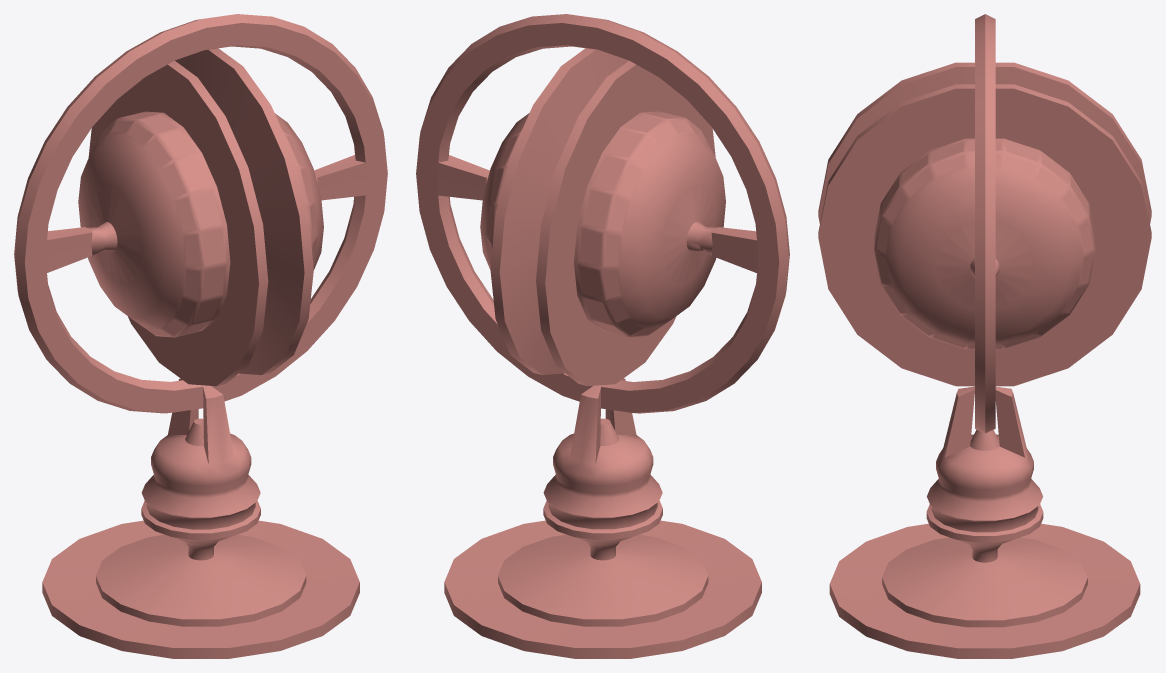
The model's file is Desk Lamp 4.fbx.
3 renders of one model, left to right at view 1: azimuth 30°, elevation 25°; view 2: azimuth 150°, elevation 25°; view 3: azimuth 270°, elevation 25°, orthographic. The views are drawn at different scales.
Visible parts, largest first — view 1: Cylinder; view 2: Cylinder; view 3: Cylinder.
Part boxes in pixels (bbox=[...]): Cylinder: bbox=[14, 14, 387, 658]; Cylinder: bbox=[416, 14, 789, 658]; Cylinder: bbox=[818, 14, 1151, 658].
Size of the model in its own units: 82.44 by 121 by 65.47.
